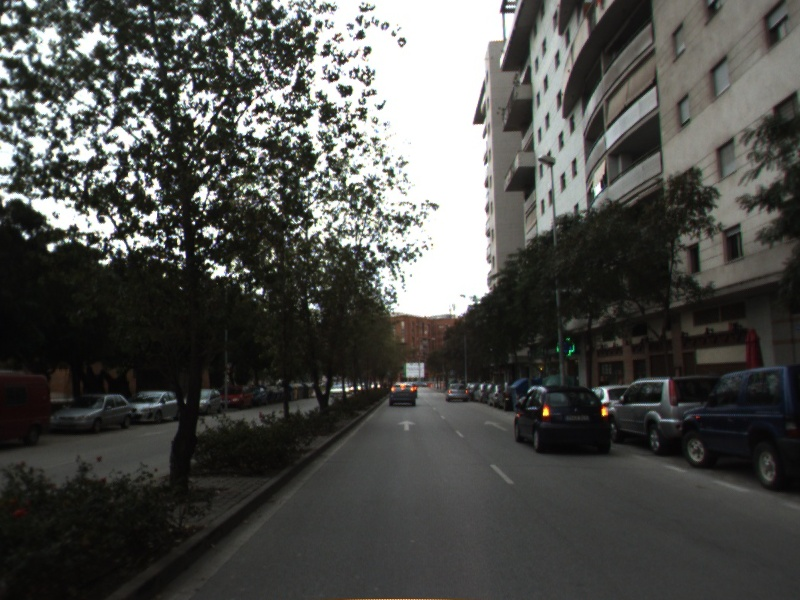STRAIGHT: (482, 418, 511, 433), (396, 419, 419, 432)
